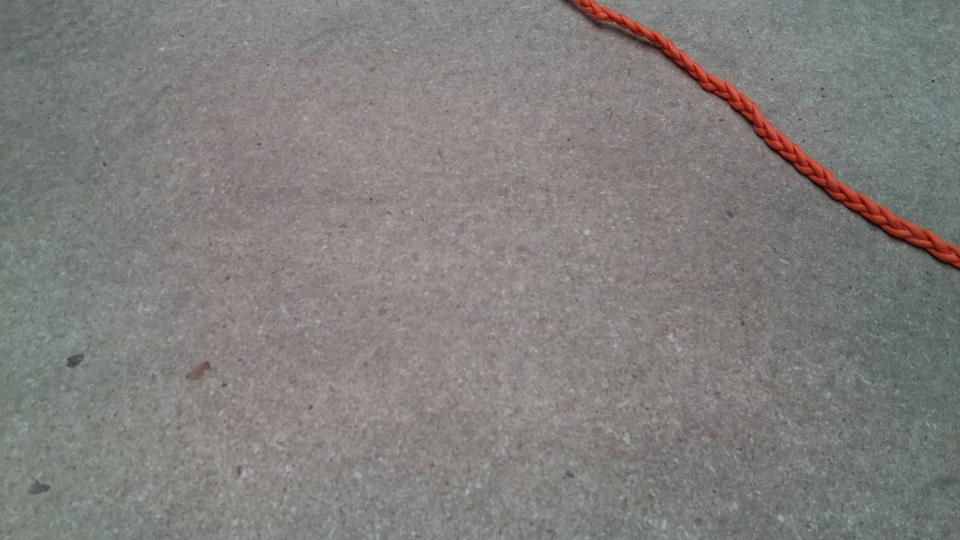rope: (590, 1, 960, 255)
